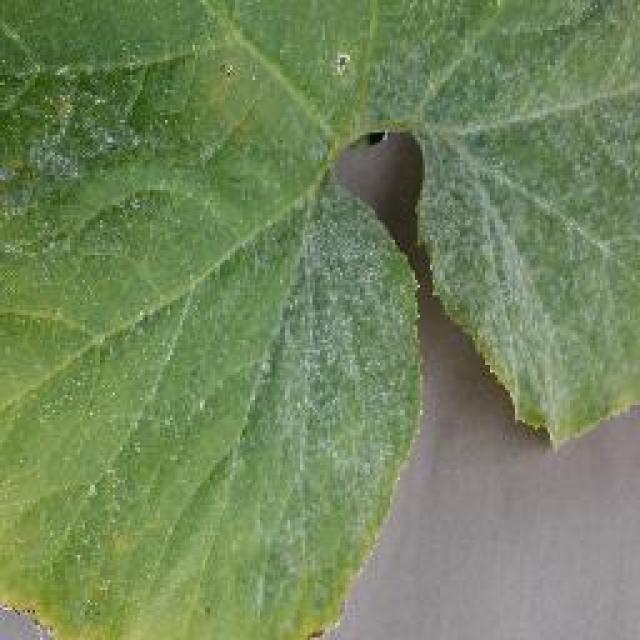Squ_Powdery_mildew: (264, 156, 586, 503)
